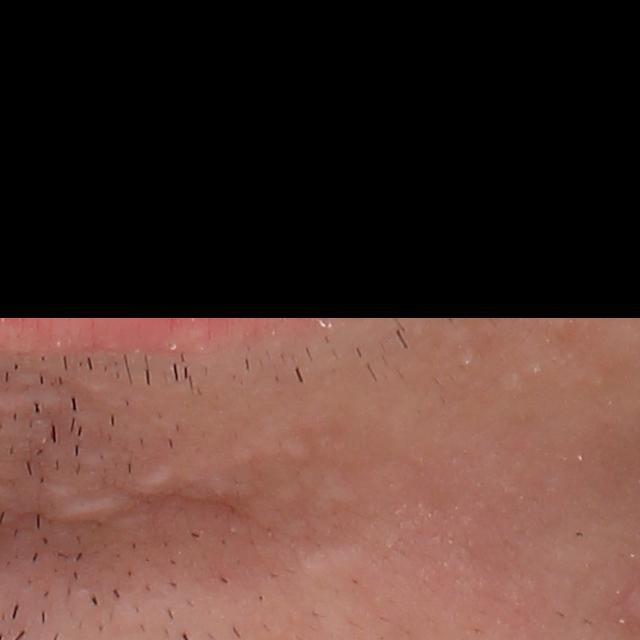hypertrophic_scar: (293, 540, 376, 598), (49, 494, 138, 526), (123, 464, 180, 502), (280, 434, 316, 462)
